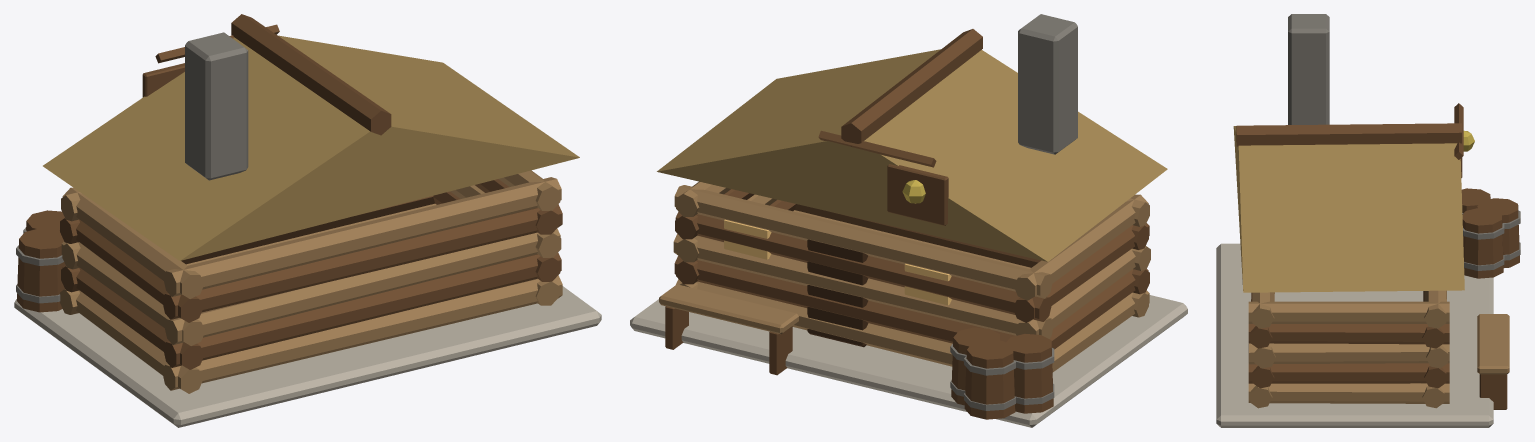
Rendered from tavern.fbx.
3 views of the same model, side by side, from view 1: azimuth 30°, elevation 25°; view 2: azimuth 150°, elevation 25°; view 3: azimuth 270°, elevation 25° (orthographic). The views are drawn at different scales.
Parts seen in each view (by area): view 1: Building, Sign; view 2: Building, Sign; view 3: Building.
Boxes of the visible parts, bbox=[...] form: Building: bbox=[14, 14, 601, 427]; Sign: bbox=[142, 63, 184, 97]; Building: bbox=[630, 14, 1187, 427]; Sign: bbox=[887, 164, 948, 225]; Building: bbox=[1216, 14, 1520, 427].
Bounding box in the file's own units: 1.82 × 1.32 × 1.3.
